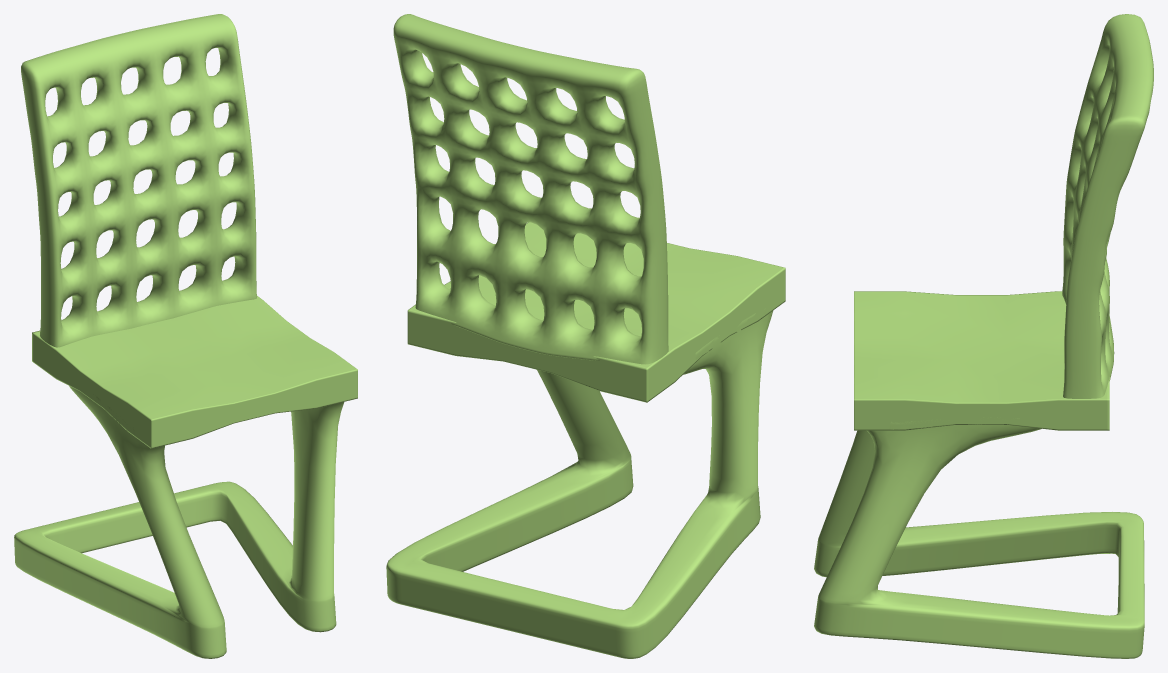
The model's file is chair_9a07e1a9.glb.
3 views of the same model, side by side, from view 1: azimuth 30°, elevation 25°; view 2: azimuth 150°, elevation 25°; view 3: azimuth 270°, elevation 25° (orthographic). The views are drawn at different scales.
Visible parts, largest first — view 1: Object_2; view 2: Object_2; view 3: Object_2.
Part boxes in pixels (box(x1,y1,x2,y2)): Object_2: box(14, 14, 357, 658); Object_2: box(386, 14, 785, 658); Object_2: box(814, 14, 1153, 658).
Bounding box in the file's own units: 0.9939 × 2.14 × 1.23.
